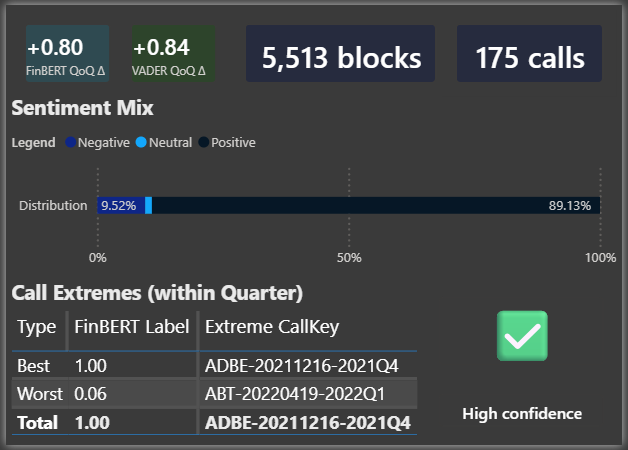

What the dashboard file says about the page in this screenshot:
{"tool":"powerbi","page":{"name":"Tooltip #3","canvas":[560,400],"ordinal":3},"visuals":[{"type":"cardVisual","fields":{"Data":["MeasuresTable.TT FinBERT QoQ Δ Label"]},"box":[0,0,112,88],"z":0},{"type":"cardVisual","fields":{"Data":["MeasuresTable.TT VADER QoQ Δ Label"]},"box":[96,0,112,88],"z":1000},{"type":"cardVisual","fields":{"Data":["MeasuresTable.TT Calls Label"]},"box":[384,8,176,72],"z":2000},{"type":"cardVisual","fields":{"Data":["MeasuresTable.TT Blocks Label"]},"box":[200,0,208,88],"z":3000},{"type":"hundredPercentStackedBarChart","title":"Sentiment Mix","fields":{"Series":["TT Sentiment.Sentiment"],"Category":["TT Axis.Axis"],"Y":["MeasuresTable.TT Sentiment Blocks (Weighted)"]},"box":[0,80,560,168],"z":3001},{"type":"pivotTable","title":"Call Extremes (within Quarter)","fields":{"Rows":["TT Extremes.Type"],"Values":["TT Extremes.TT Extreme FinBERT Label","TT Extremes.TT Extreme CallKey"]},"box":[0,248,376,152],"z":3002},{"type":"cardVisual","fields":{"Data":["MeasuresTable.TT Calls Label"]},"box":[392,0,168,88],"z":3003},{"type":"cardVisual","fields":{"Data":["MeasuresTable.TT Confidence Label"]},"box":[376,336,184,64],"z":3004},{"type":"cardVisual","fields":{"Data":["MeasuresTable.TT Confidence Icon"]},"box":[376,248,184,96],"z":3005}]}

Visuals, with their boxes in screenshot pixels (x1, y1, x2, y2), scaled from the page's 560x400 canvas onto the 628x450 screenshot:
cardVisual - MeasuresTable.TT FinBERT QoQ Δ Label: detection(0, 0, 126, 99)
cardVisual - MeasuresTable.TT VADER QoQ Δ Label: detection(108, 0, 233, 99)
cardVisual - MeasuresTable.TT Calls Label: detection(431, 9, 627, 90)
cardVisual - MeasuresTable.TT Blocks Label: detection(224, 0, 458, 99)
"Sentiment Mix" hundredPercentStackedBarChart: detection(0, 90, 627, 279)
"Call Extremes (within Quarter)" pivotTable: detection(0, 279, 422, 449)
cardVisual - MeasuresTable.TT Calls Label: detection(440, 0, 627, 99)
cardVisual - MeasuresTable.TT Confidence Label: detection(422, 378, 627, 449)
cardVisual - MeasuresTable.TT Confidence Icon: detection(422, 279, 627, 387)
